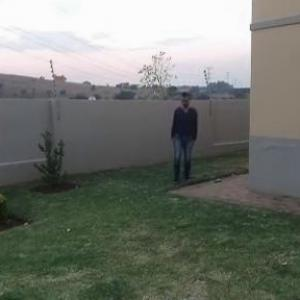follow: (170, 88, 202, 183)
